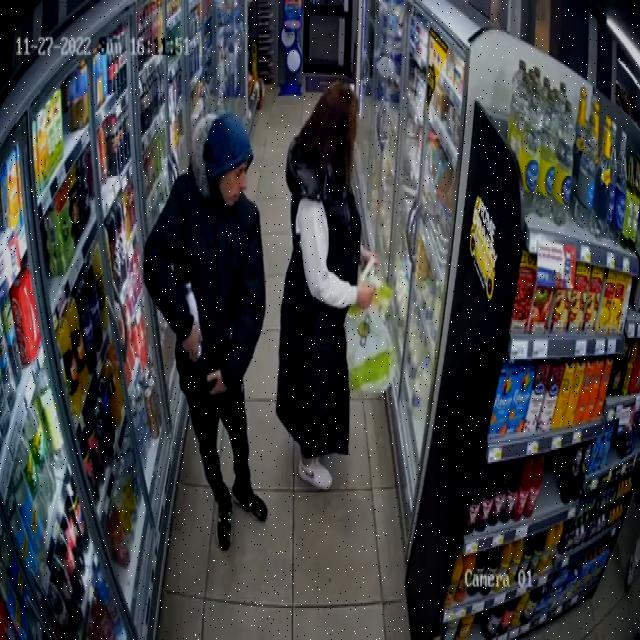article: (185, 283, 198, 322), (198, 345, 201, 357)
bags: (345, 263, 395, 391)
hands: (182, 322, 201, 359), (356, 284, 374, 308), (208, 370, 226, 393)
person: (144, 112, 267, 548), (276, 84, 375, 489)
